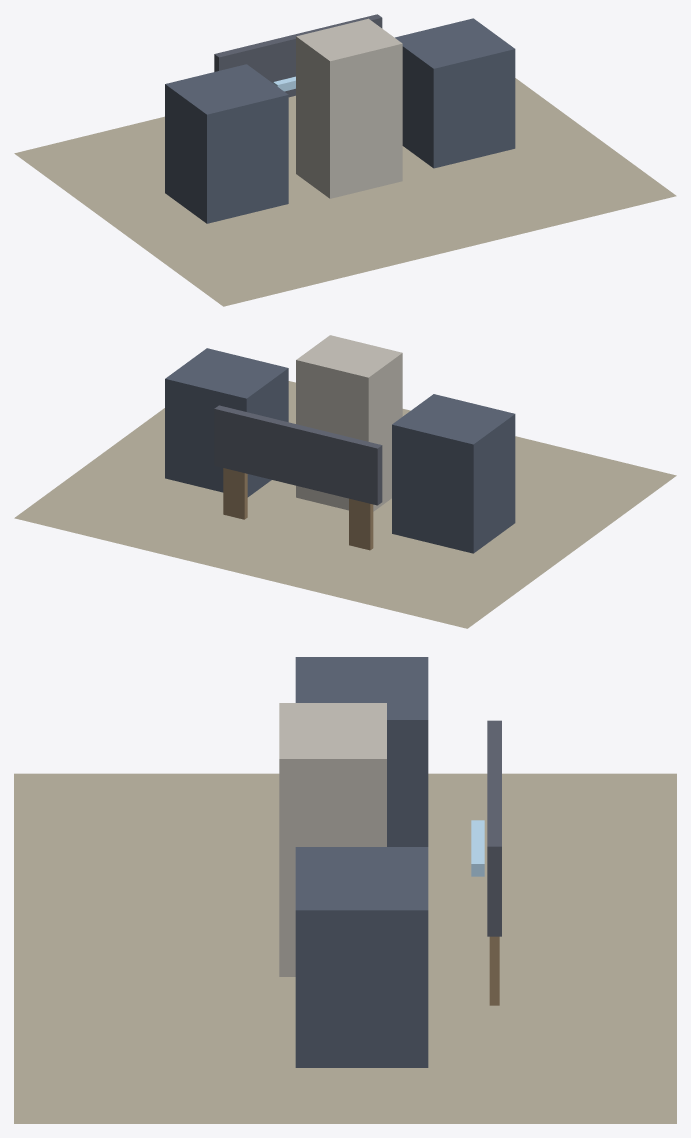
The model's file is world.glb.
3 views of the same model, one above another, from view 1: azimuth 30°, elevation 25°; view 2: azimuth 150°, elevation 25°; view 3: azimuth 270°, elevation 25° (orthographic). The views are drawn at different scales.
Visible parts, largest first — view 1: quotes_opaque_mesh; view 2: quotes_opaque_mesh; view 3: quotes_opaque_mesh, quotes_emissive_mesh.
Part boxes in pixels (x1,y1,x2,y2): quotes_opaque_mesh: (14, 14, 676, 306); quotes_opaque_mesh: (14, 335, 676, 628); quotes_opaque_mesh: (14, 657, 676, 1123); quotes_emissive_mesh: (471, 820, 484, 876).
Bounding box in the file's own units: 10 × 3 × 8.
